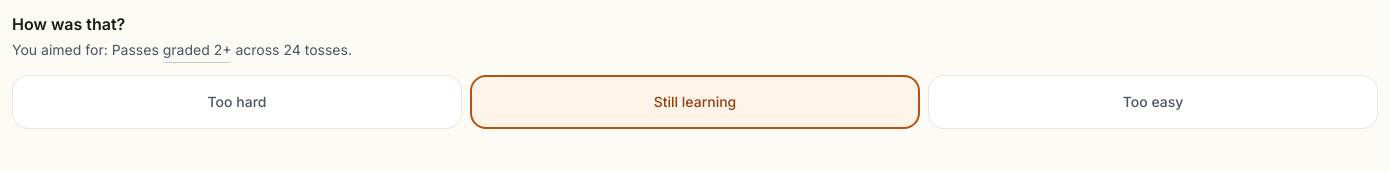
Scenario: PerDrillCapture inline gloss behavior (2026-05-13 universalization) › reveals the definition under the observable line when the term is tapped
The image size is (1390, 172).
expect the text "ball lands within 1 m of the set window" is not shown: met
Click the button "graded 2+" at (197, 52), box [163,40,232,63]
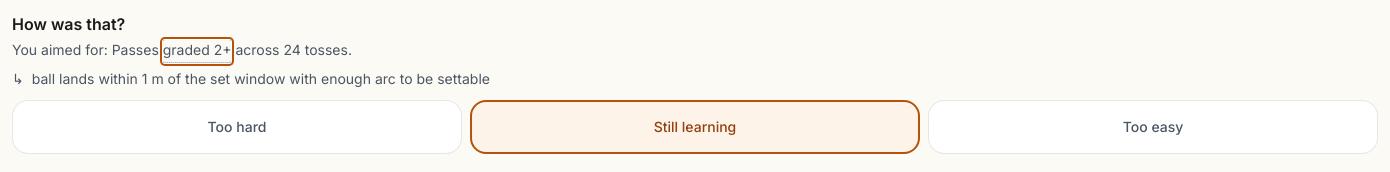
expect the text "ball lands within 1 m of the set window" is shown: met, box [32,70,490,87]
expect the text "ball lands within 1 m of the set window" shows "↳": met, box [12,70,24,87]
